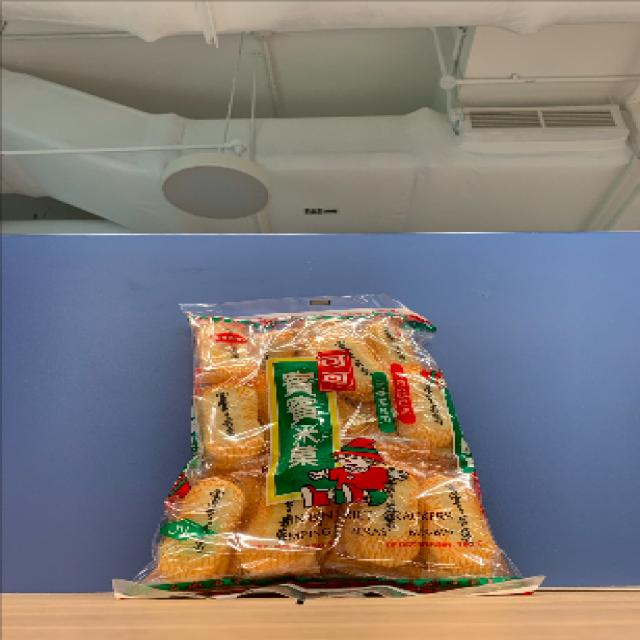object_name: (189, 309, 463, 580)
